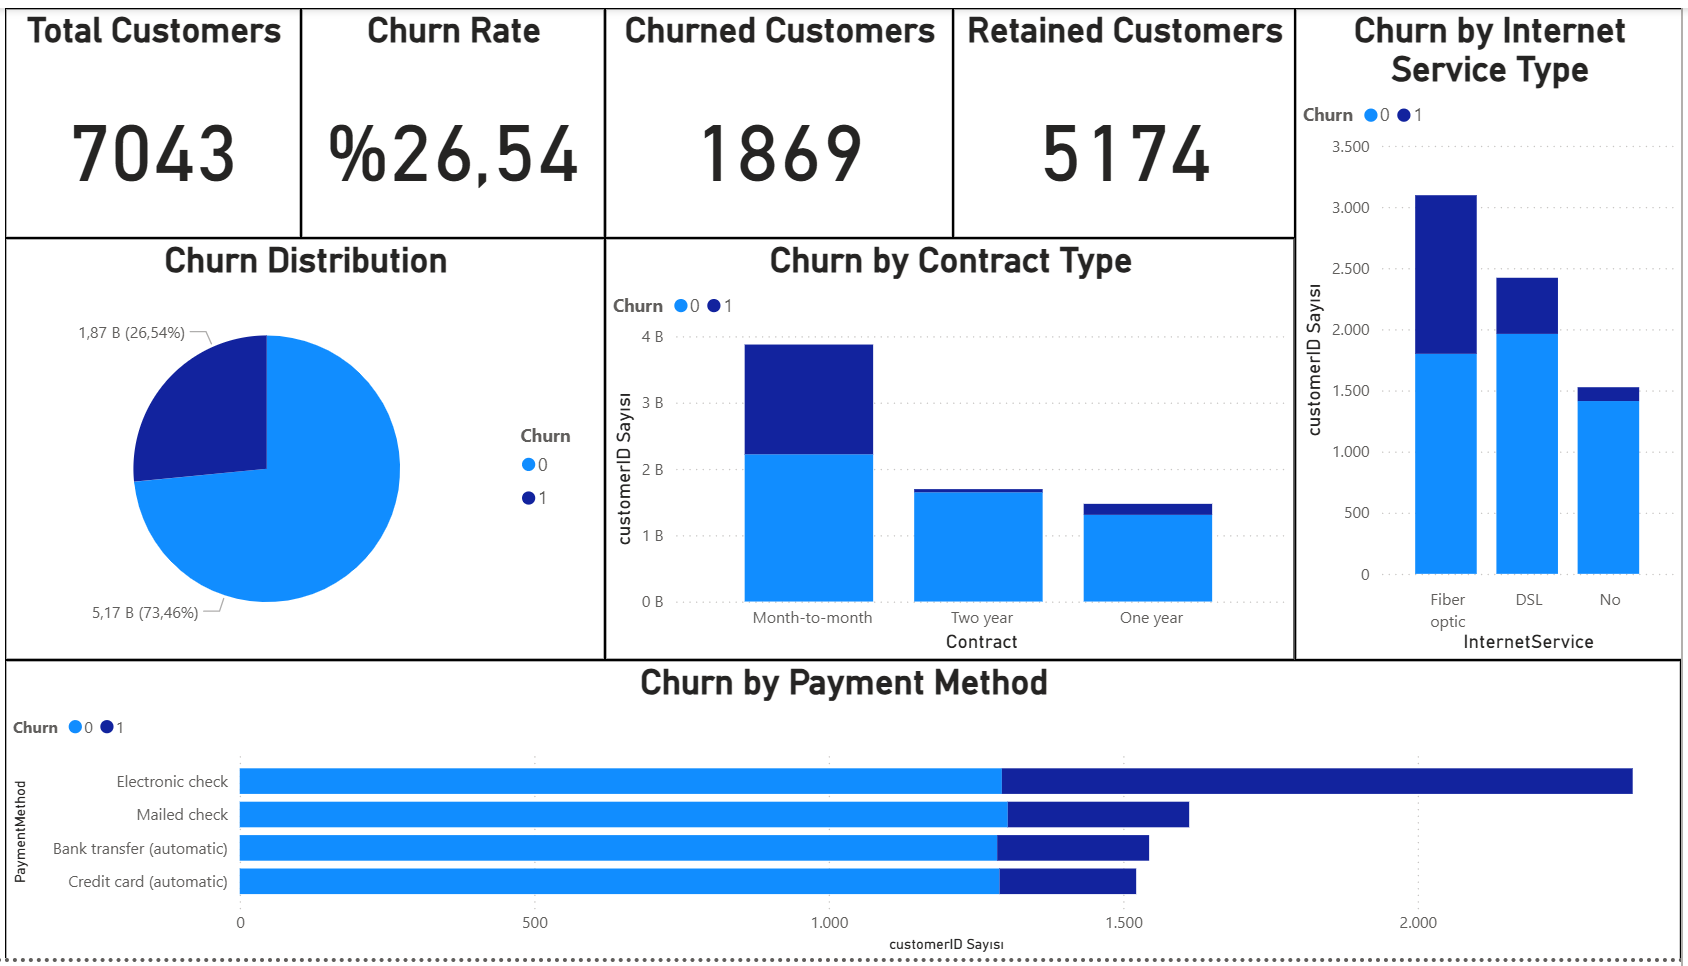

What the dashboard file says about the page in this screenshot:
{"tool":"powerbi","page":{"name":"Executive Summary","canvas":[1280,720],"ordinal":0},"visuals":[{"type":"card","title":"Total Customers","fields":{"Values":["Count(telco_customer_churn_cleaned.customerID)"]},"box":[9.1,0,224.5,174.4],"z":0},{"type":"card","title":"Churn Rate","fields":{"Values":["telco_customer_churn_cleaned.Churn Rate"]},"box":[233.6,0,230.5,174.4],"z":1000},{"type":"actionButton","box":[0,0,100,40],"z":2000},{"type":"card","title":"Churned Customers","fields":{"Values":["telco_customer_churn_cleaned.Churned Customers"]},"box":[464.1,0,263.9,174.4],"z":3000},{"type":"card","title":"Retained Customers","fields":{"Values":["telco_customer_churn_cleaned.Retained Customers"]},"box":[728,0,259.3,174.4],"z":4000},{"type":"pieChart","title":"Churn Distribution","fields":{"Category":["telco_customer_churn_cleaned.Churn"],"Y":["CountNonNull(telco_customer_churn_cleaned.customerID)"]},"box":[9.1,174.4,455,320],"z":5000},{"type":"columnChart","title":"Churn by Contract Type","fields":{"Category":["telco_customer_churn_cleaned.Contract"],"Y":["CountNonNull(telco_customer_churn_cleaned.customerID)"],"Series":["telco_customer_churn_cleaned.Churn"]},"box":[464.1,174.4,523.2,320],"z":6000},{"type":"columnChart","title":"Churn by Internet Service Type","fields":{"Category":["telco_customer_churn_cleaned.InternetService"],"Y":["CountNonNull(telco_customer_churn_cleaned.customerID)"],"Series":["telco_customer_churn_cleaned.Churn"]},"box":[987.3,0,294.2,494.4],"z":7000},{"type":"barChart","title":"Churn by Payment Method","fields":{"Category":["telco_customer_churn_cleaned.PaymentMethod"],"Y":["CountNonNull(telco_customer_churn_cleaned.customerID)"],"Series":["telco_customer_churn_cleaned.Churn"]},"box":[9.1,494.4,1270.9,227.5],"z":8000}]}

Visuals, with their boxes in screenshot pixels (x1, y1, x2, y2), scaled from the page's 1280x720 canvas onto the 1688x966 screenshot:
"Total Customers" card: (12, 0, 308, 234)
"Churn Rate" card: (308, 0, 612, 234)
actionButton: (0, 0, 132, 54)
"Churned Customers" card: (612, 0, 960, 234)
"Retained Customers" card: (960, 0, 1302, 234)
"Churn Distribution" pieChart: (12, 234, 612, 663)
"Churn by Contract Type" columnChart: (612, 234, 1302, 663)
"Churn by Internet Service Type" columnChart: (1302, 0, 1687, 663)
"Churn by Payment Method" barChart: (12, 663, 1687, 965)
